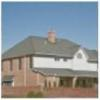chimneys: (46, 26, 58, 45)
